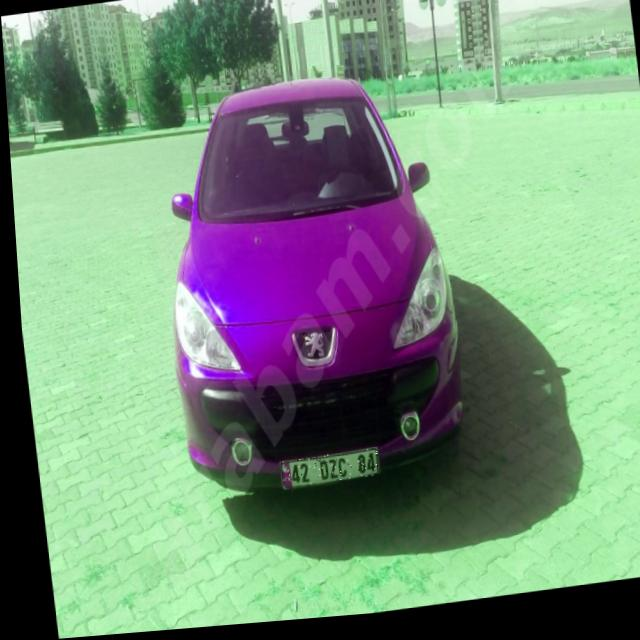license_plate: (271, 454, 373, 492)
